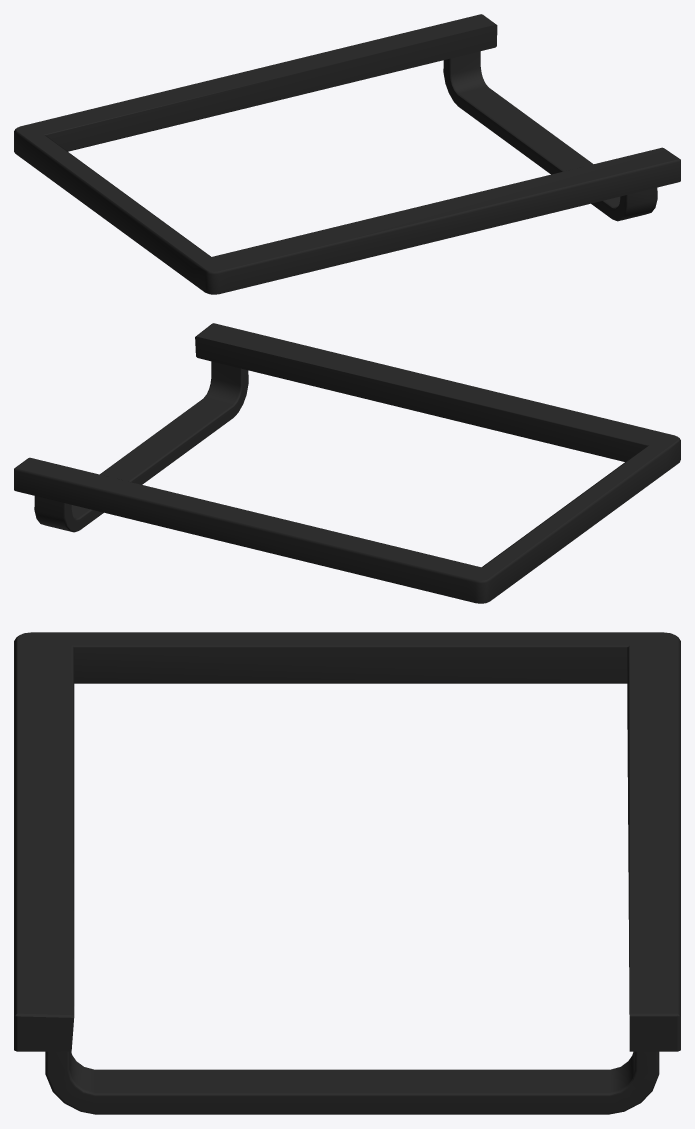
The model's file is door.obj.
3 renders of one model, top to bottom at view 1: azimuth 30°, elevation 25°; view 2: azimuth 150°, elevation 25°; view 3: azimuth 270°, elevation 25°, orthographic. The views are drawn at different scales.
Parts seen in each view (by area): view 1: door; view 2: door; view 3: door.
Part boxes in pixels (x1,y1,x2,y2): door: (14,14,680,294); door: (14,323,680,603); door: (14,632,680,1114).
Size of the model in its own units: 0.4019 by 0.055 by 0.2953.
1 material, 1 textured.
